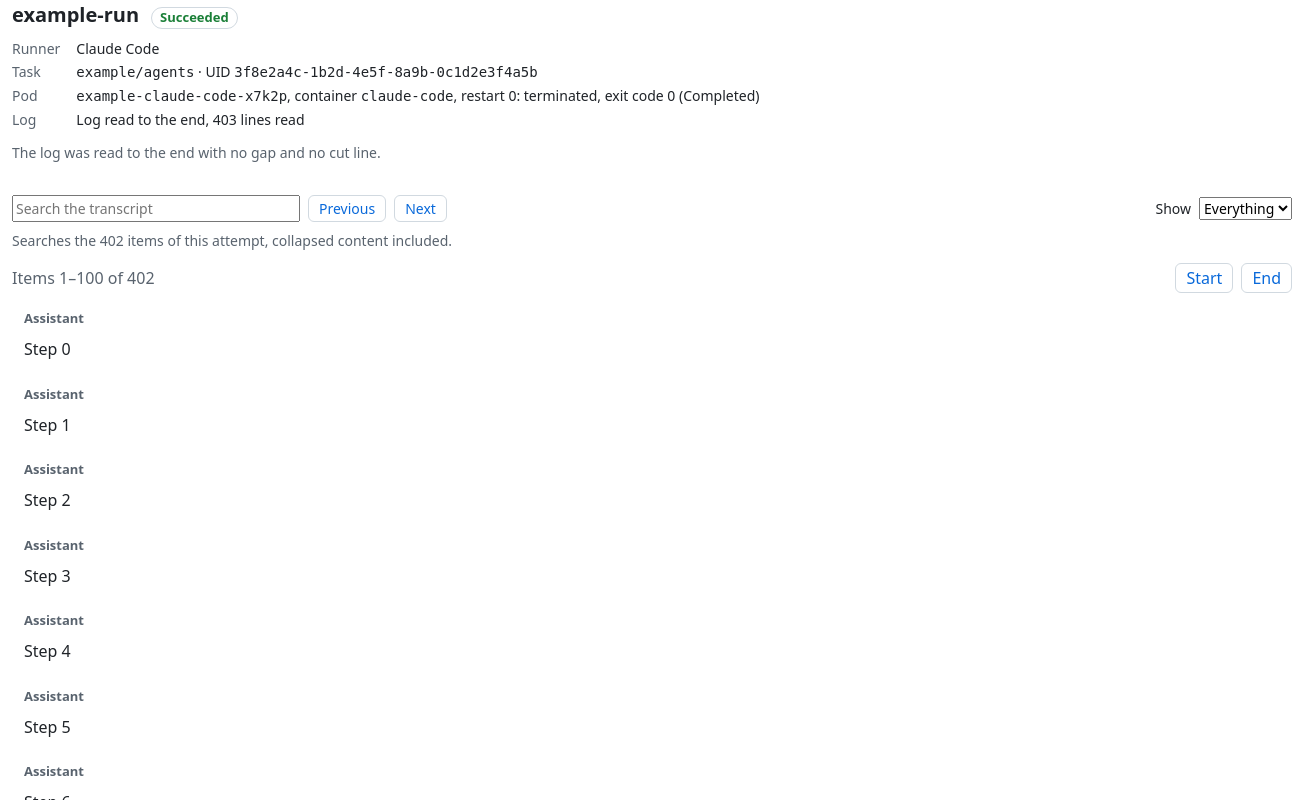
Test case: Conversation search and filter › finds text in collapsed content and moves between results
Type "NEEDLE" into the search field with placeholder "Search the transcript".
click(156, 208); type("NEEDLE")  # box [12,195,300,222]
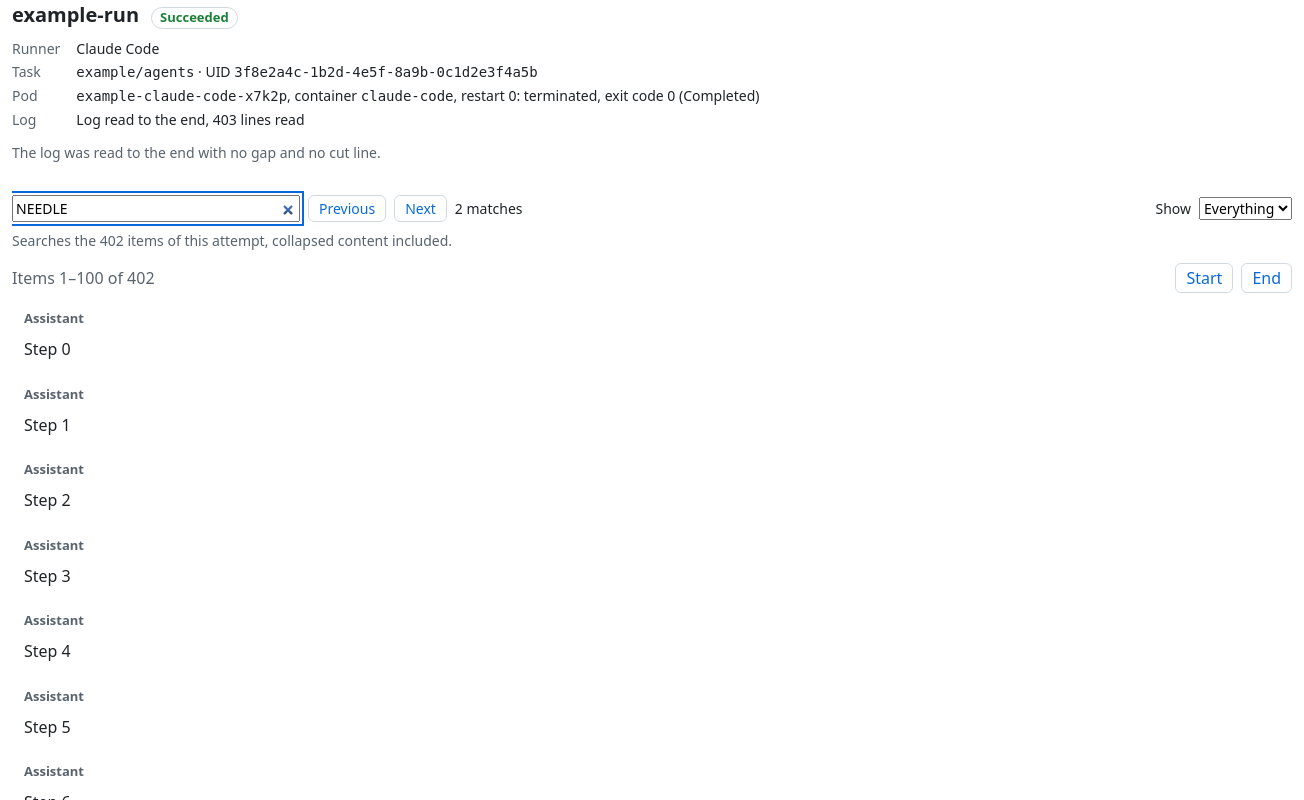
Check: the text with class "count" reads "2 matches", box [455,199,522,218]
Press Enter
(page scrolled)
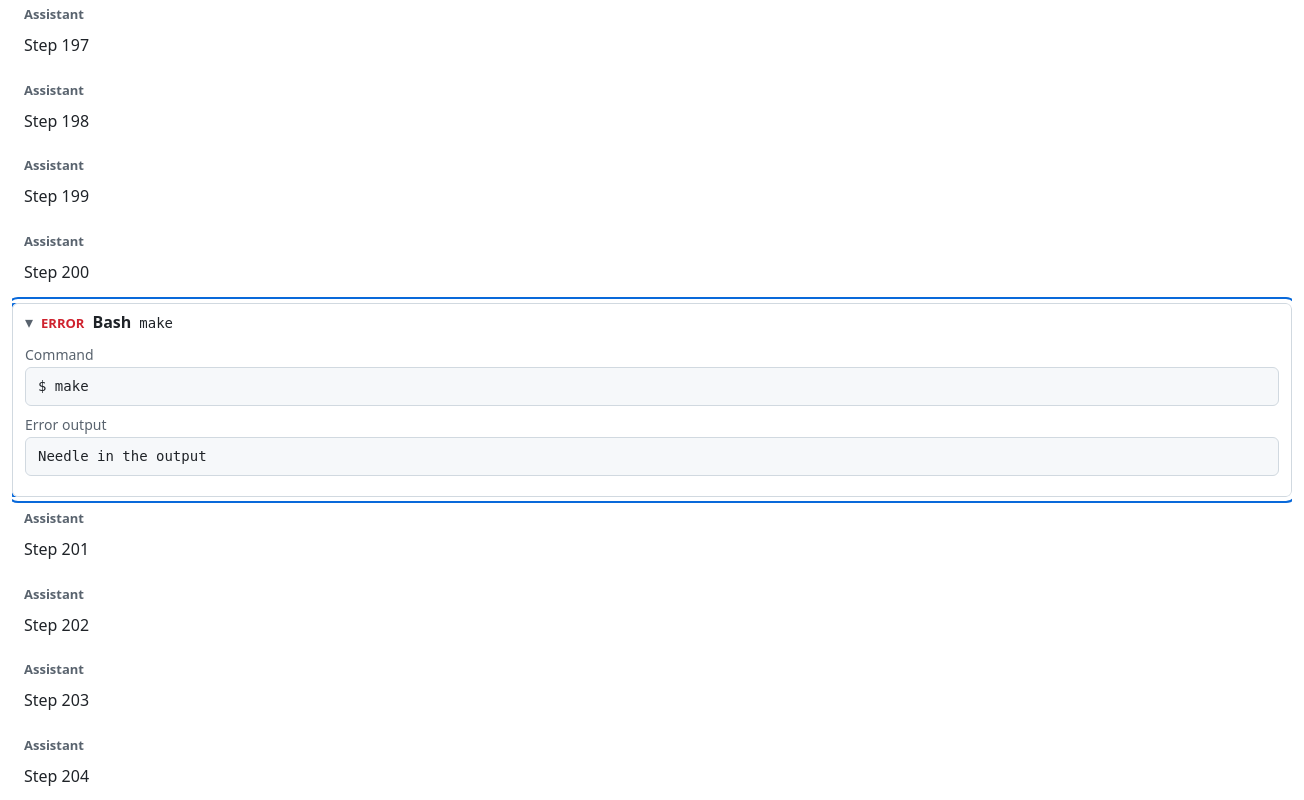
Check: the list item with class "current" shows "Needle in the output", box [38,448,207,464]
Press Enter
(page scrolled)
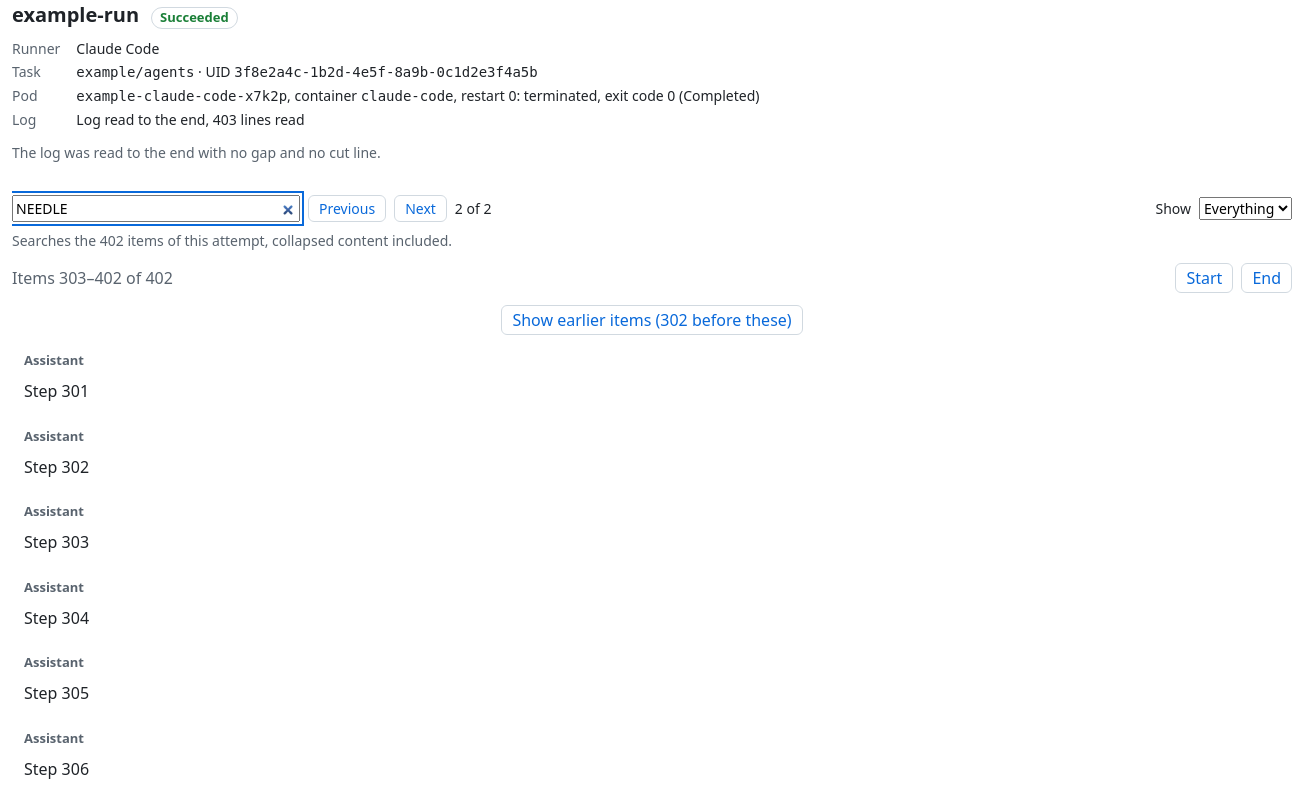
Check: the text with class "count" reads "2 of 2", box [455,199,492,218]
Press Enter
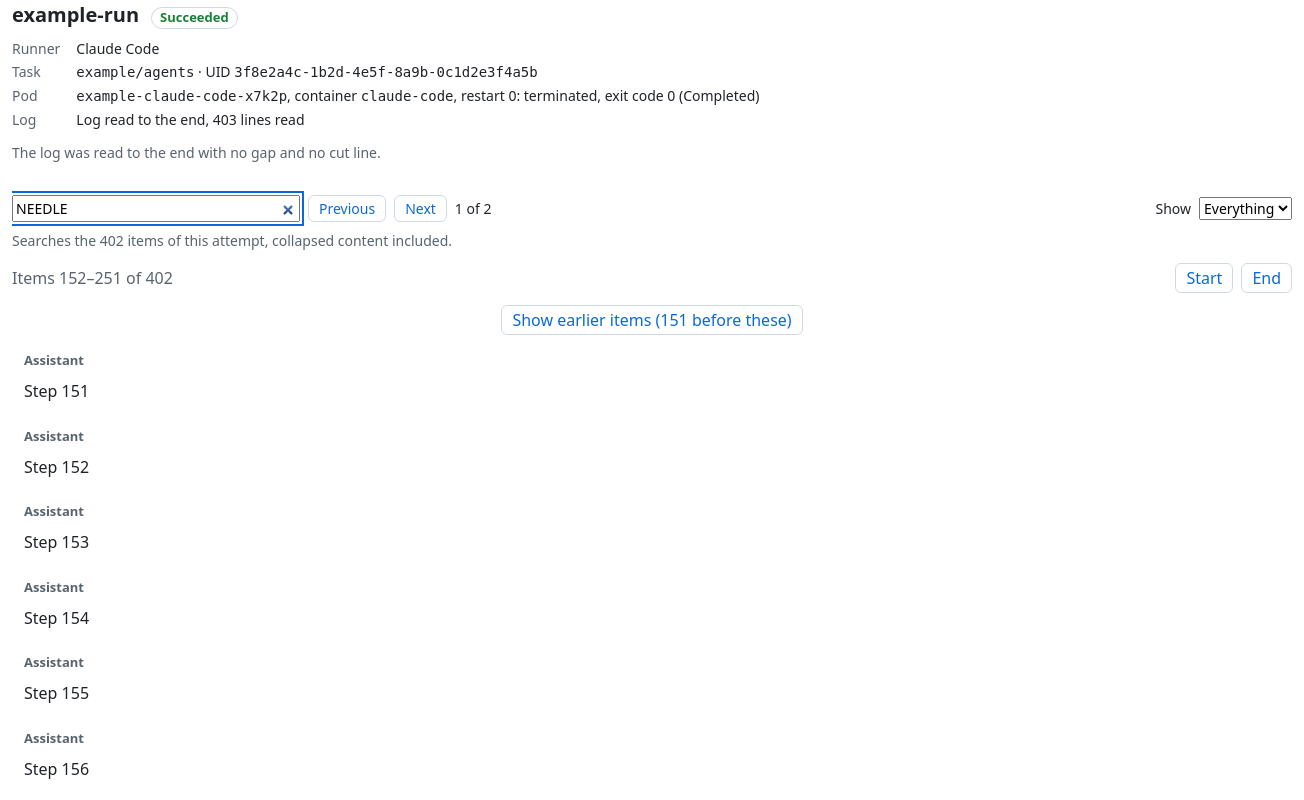
Check: the text with class "count" reads "1 of 2", box [455,199,492,218]
Type keys "{Shift>}{Enter}{/Shift}"
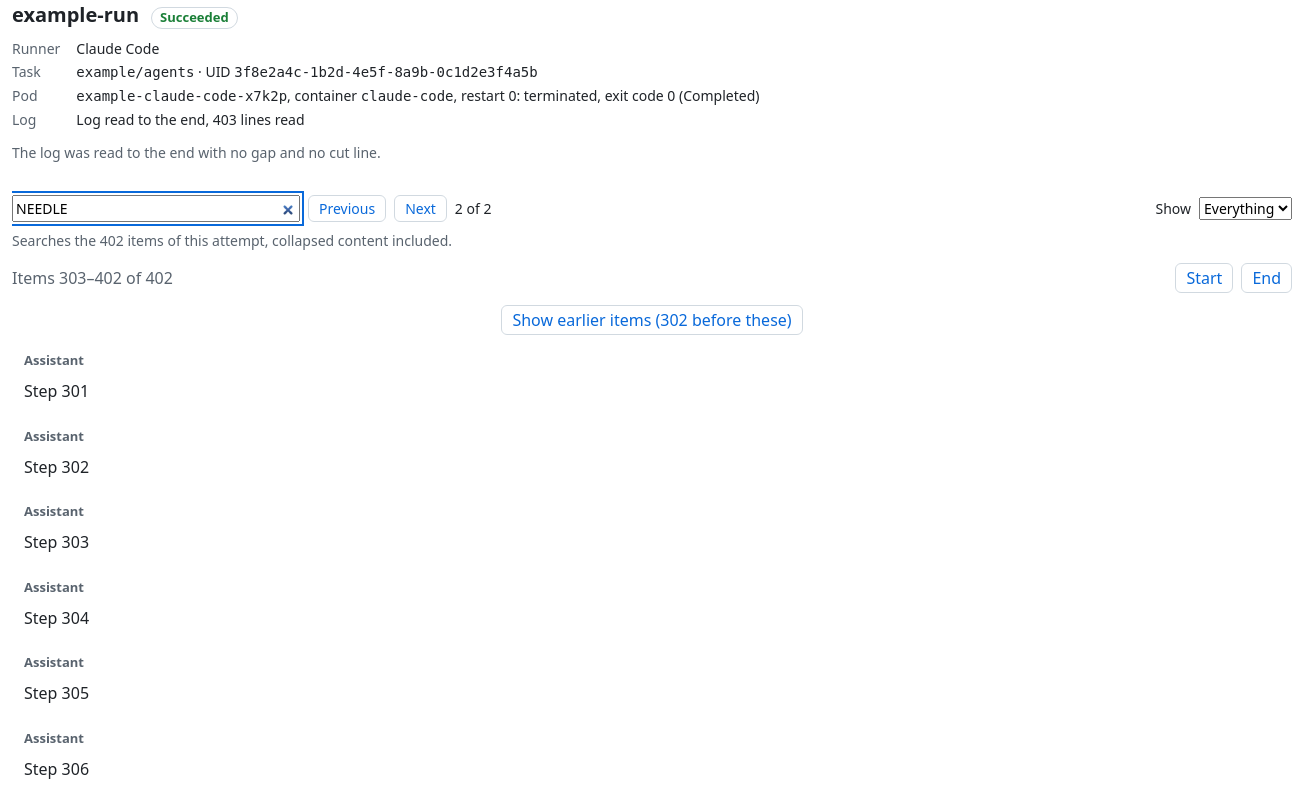
Check: the text with class "count" reads "2 of 2", box [455,199,492,218]
